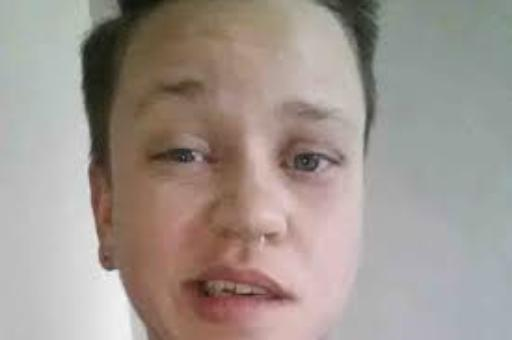left_eye: (283, 152, 344, 175)
left_lip_corner: (272, 287, 319, 312)
right_eye: (151, 146, 218, 169)
right_lip_corner: (175, 273, 206, 294)
